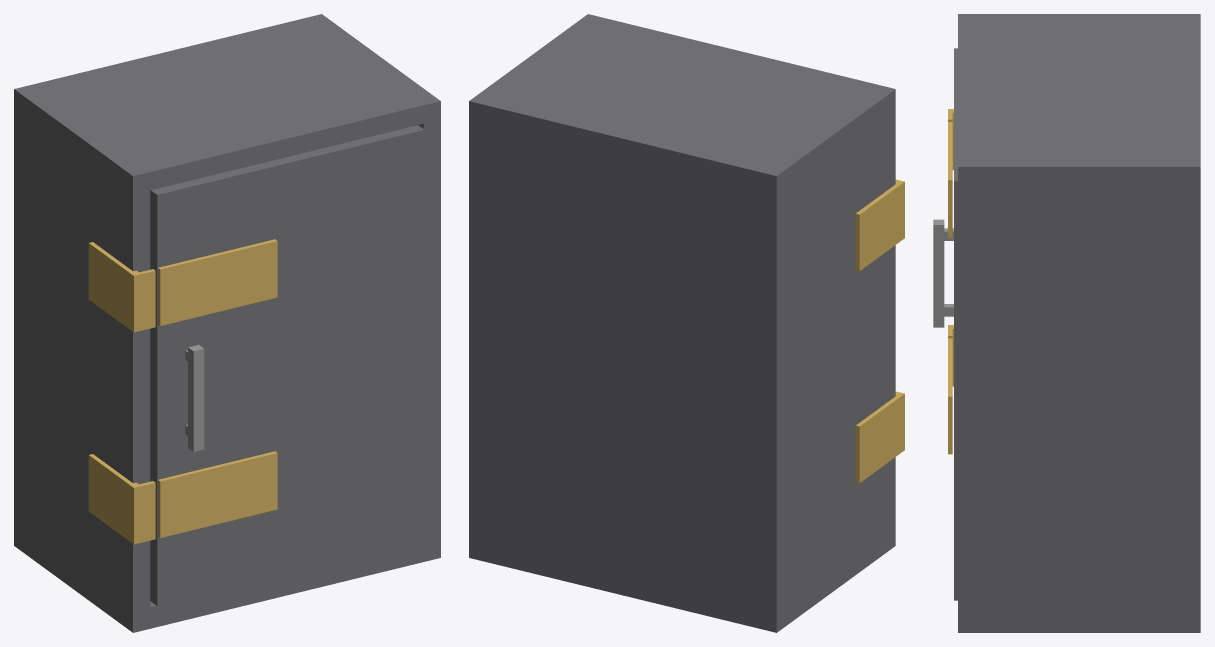
Rendered from box kamar terbuka.fbx.
3 views of the same model, side by side, from view 1: azimuth 30°, elevation 25°; view 2: azimuth 150°, elevation 25°; view 3: azimuth 270°, elevation 25° (orthographic).
Visible parts, largest first — view 1: Cube, Cube.001, Cube.004, Cube.003, Cube.002; view 2: Cube, Cube.004, Cube.003; view 3: Cube, Cube.001, Cube.002, Cube.004, Cube.003.
Part boxes in pixels (box(x1,y1,x2,y2)): Cube: box(14, 14, 440, 632); Cube.001: box(150, 125, 424, 605); Cube.004: box(88, 451, 277, 544); Cube.003: box(88, 239, 277, 332); Cube.002: box(185, 344, 204, 451); Cube: box(469, 14, 895, 632); Cube.004: box(855, 391, 904, 483); Cube.003: box(855, 179, 904, 271); Cube: box(958, 14, 1200, 632); Cube.001: box(954, 48, 957, 600); Cube.002: box(933, 219, 953, 327); Cube.004: box(948, 325, 953, 454); Cube.003: box(948, 109, 953, 237).
Size of the model in its own units: 251 by 351 by 183.
